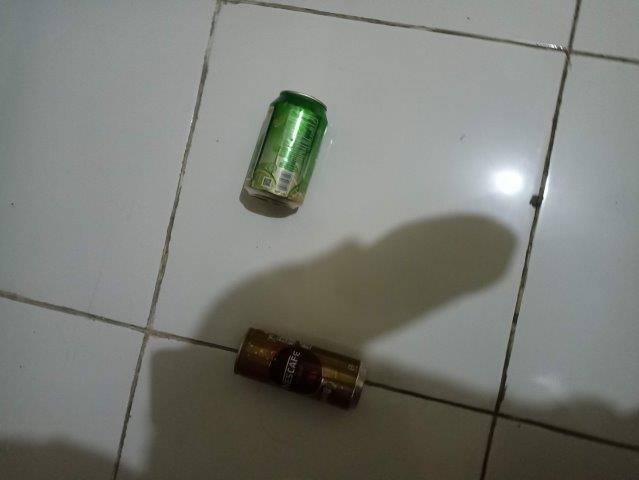kaleng: (233, 327, 367, 411), (243, 89, 329, 211)
